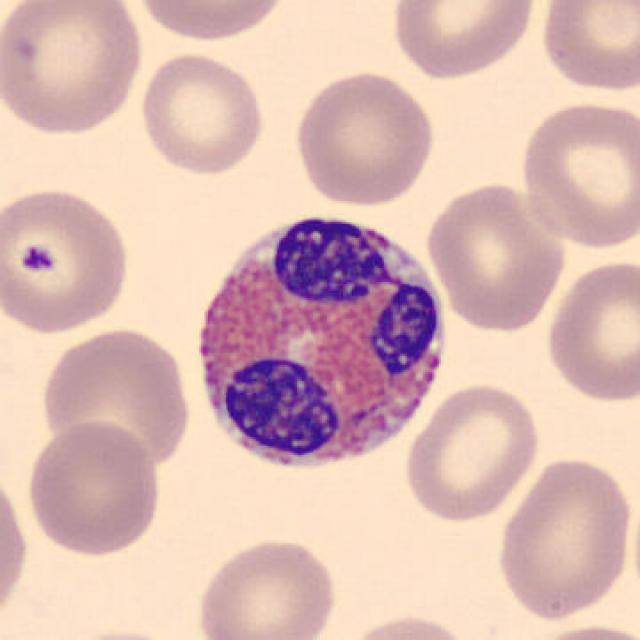Eosinophil: (181, 196, 459, 488)
Platelets: (10, 228, 70, 285)
RBC: (492, 451, 636, 624), (37, 323, 194, 474), (423, 178, 569, 335), (400, 379, 544, 525), (290, 67, 439, 208), (0, 182, 135, 336), (0, 0, 147, 139), (23, 418, 164, 559), (516, 97, 638, 252), (135, 48, 269, 178), (190, 532, 342, 640), (542, 255, 640, 406), (386, 0, 542, 83), (535, 0, 638, 95), (132, 0, 294, 44), (0, 465, 30, 633), (336, 610, 478, 640), (519, 620, 640, 640), (58, 626, 195, 640)
